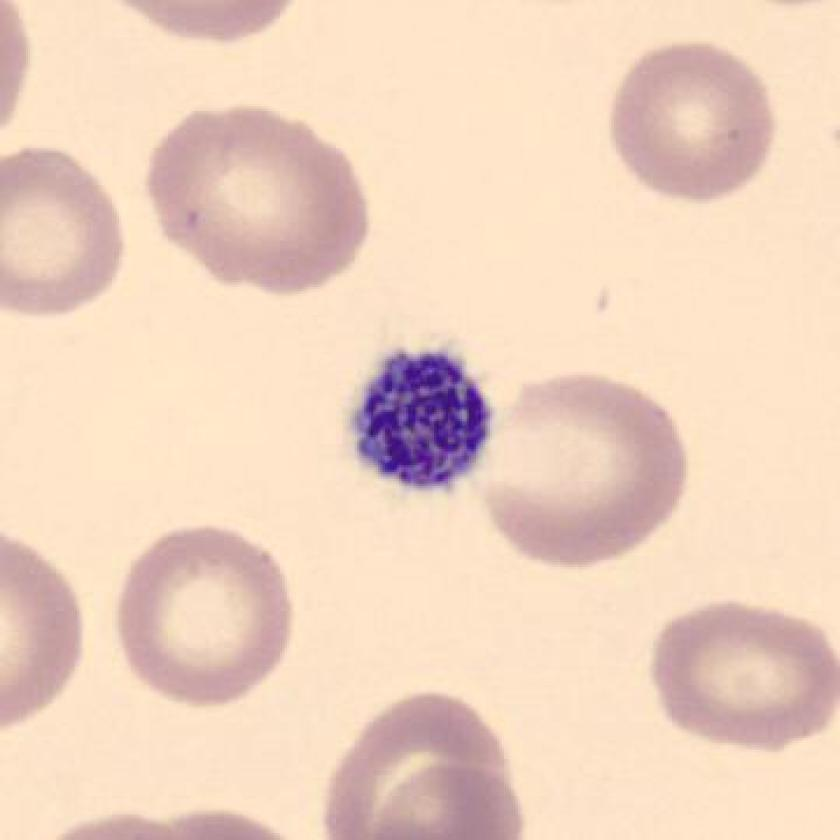platelets: (339, 339, 498, 508)
